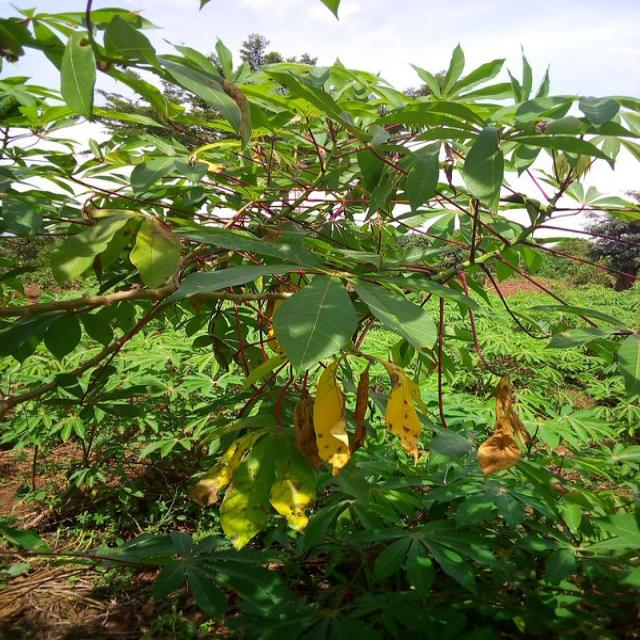cassava leaf: (272, 273, 358, 374), (312, 359, 350, 464), (129, 214, 181, 289), (462, 125, 504, 210), (59, 29, 96, 119)
